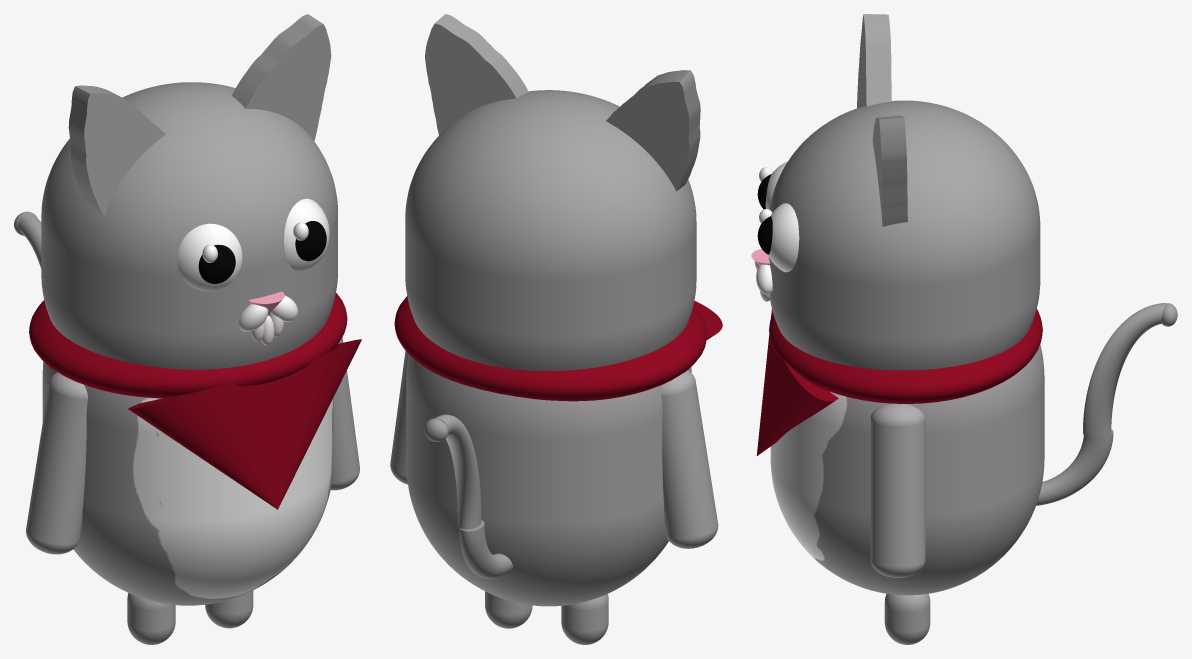
Rendered from Cat.fbx.
3 renders of one model, left to right at view 1: azimuth 30°, elevation 25°; view 2: azimuth 150°, elevation 25°; view 3: azimuth 270°, elevation 25°, orthographic. The views are drawn at different scales.
Parts seen in each view (by area): view 1: root (×15), node_id169; view 2: root (×10), node_id169, node_id168; view 3: root (×9), node_id169, node_id168.
Part boxes in pixels (x1,y1,x2,y2): root (×15): (26,14,361,644); node_id169: (18,213,41,268); root (×10): (390,14,722,644); node_id169: (435,414,481,529); node_id168: (459,520,512,578); root (×9): (756,14,1044,644); node_id169: (1083,303,1166,437); node_id168: (1036,429,1113,505).
Size of the model in its own units: 0.2127 by 0.3712 by 0.2563.
21 materials, 17 textured.
